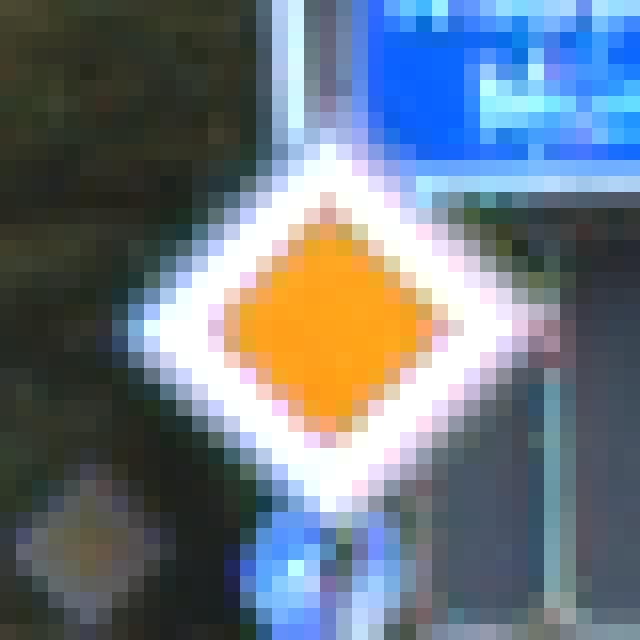Main Road: (97, 81, 561, 545)
